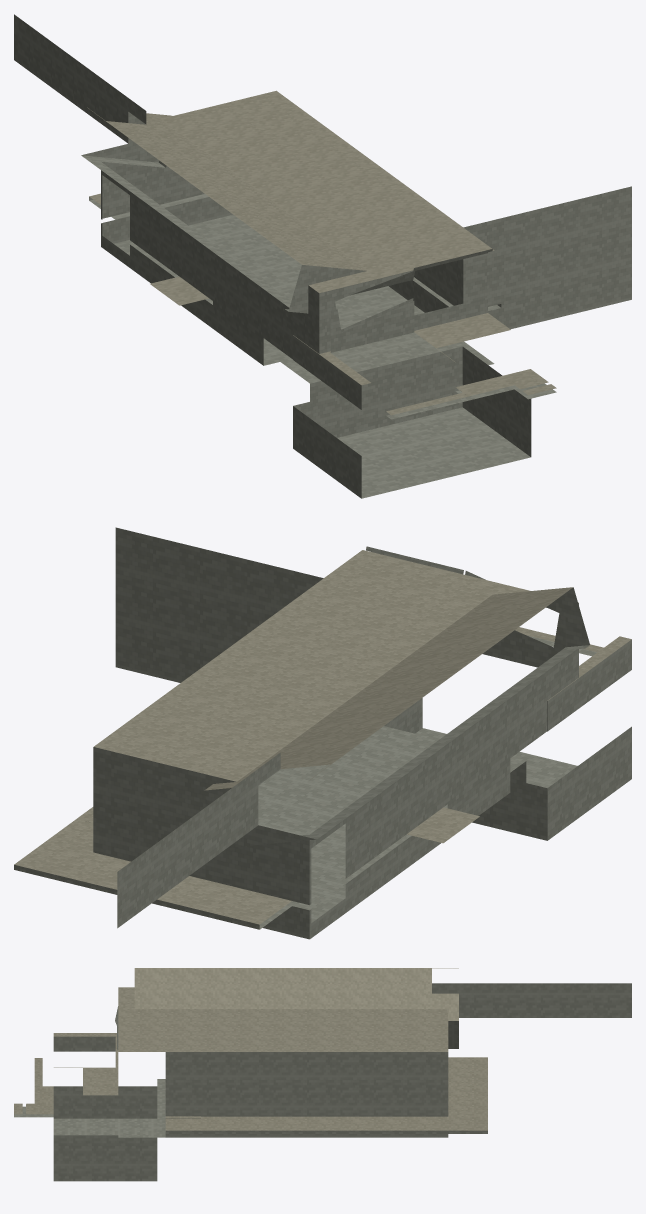
Rendered from SM_QD_Ground_MountainNorth.fbx.
3 views of the same model, one above another, from view 1: azimuth 30°, elevation 25°; view 2: azimuth 150°, elevation 25°; view 3: azimuth 270°, elevation 25° (orthographic). The views are drawn at different scales.
Parts seen in each view (by area): view 1: SM_QD_Ground_MountainNorth; view 2: SM_QD_Ground_MountainNorth; view 3: SM_QD_Ground_MountainNorth.
Part boxes in pixels (left/top/right/bottom): SM_QD_Ground_MountainNorth: left=14, top=14, right=631, bottom=498; SM_QD_Ground_MountainNorth: left=14, top=527, right=631, bottom=939; SM_QD_Ground_MountainNorth: left=14, top=968, right=631, bottom=1181.
Size of the model in its own units: 46.91 by 88.79 by 23.53.
Materials: 2 (2 with a texture image).
